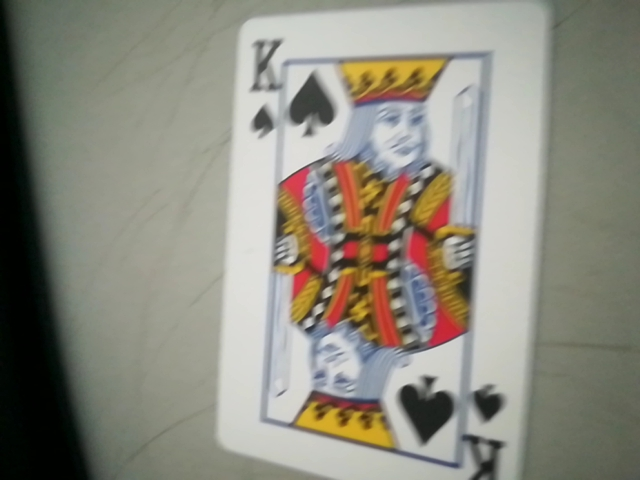ht k: (460, 375, 512, 480), (235, 32, 281, 148)
